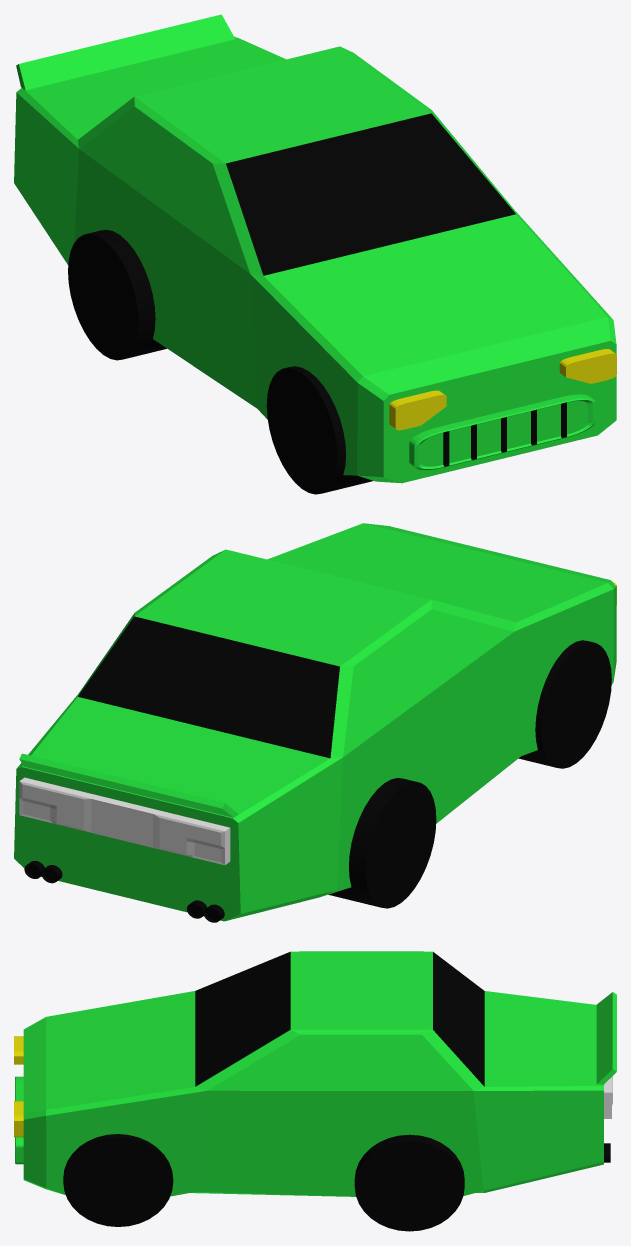
Rendered from GreenCar.glb.
3 views of the same model, one above another, from view 1: azimuth 30°, elevation 25°; view 2: azimuth 150°, elevation 25°; view 3: azimuth 270°, elevation 25° (orthographic). The views are drawn at different scales.
Parts seen in each view (by area): view 1: Car_Red; view 2: Car_Red; view 3: Car_Red.
Boxes of the visible parts, x1=… form: Car_Red: x1=14, y1=14, x2=616, y2=494; Car_Red: x1=14, y1=523, x2=616, y2=922; Car_Red: x1=14, y1=951, x2=616, y2=1231.
Size of the model in its own units: 3.28 by 2.48 by 7.38.
